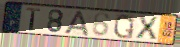6: (91, 12, 111, 38)
8: (46, 9, 64, 34)
A: (63, 10, 90, 37)
Q: (113, 13, 136, 40)
T: (25, 7, 42, 32)
X: (135, 15, 159, 40)
